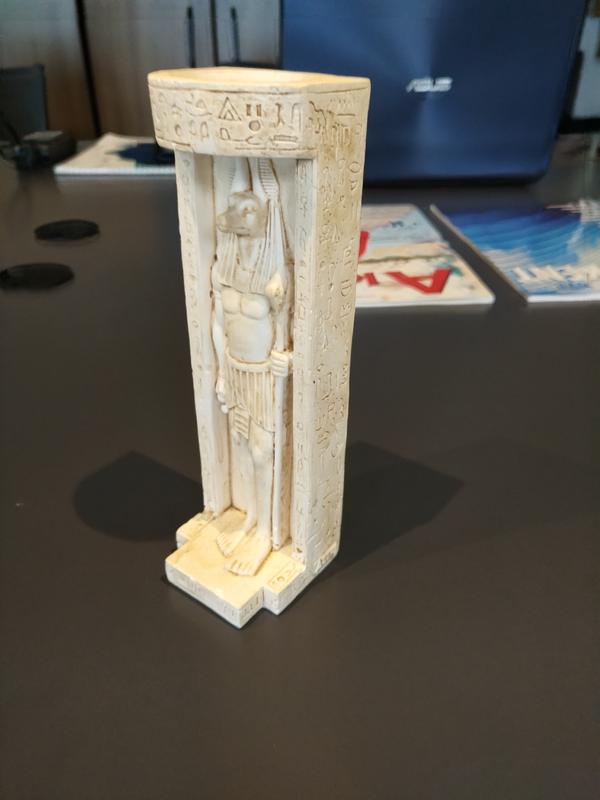heykel: (139, 60, 380, 635)
